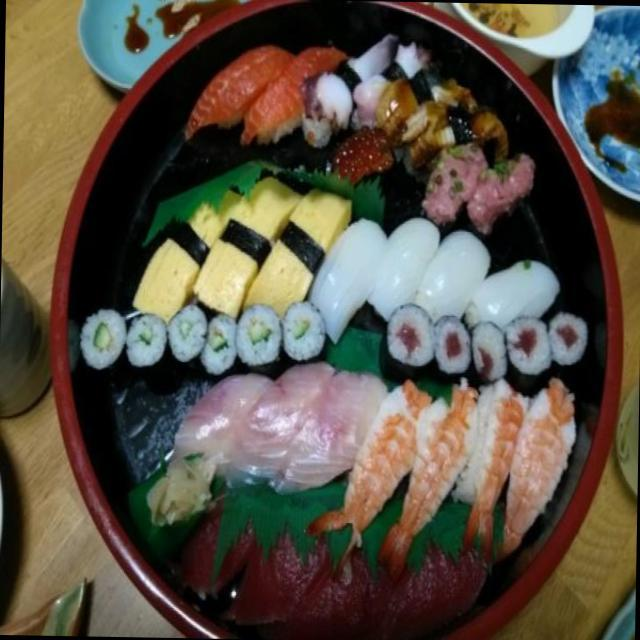Sushi: (82, 28, 586, 562)
